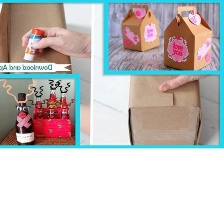carton: (162, 3, 215, 71), (115, 2, 161, 54)
